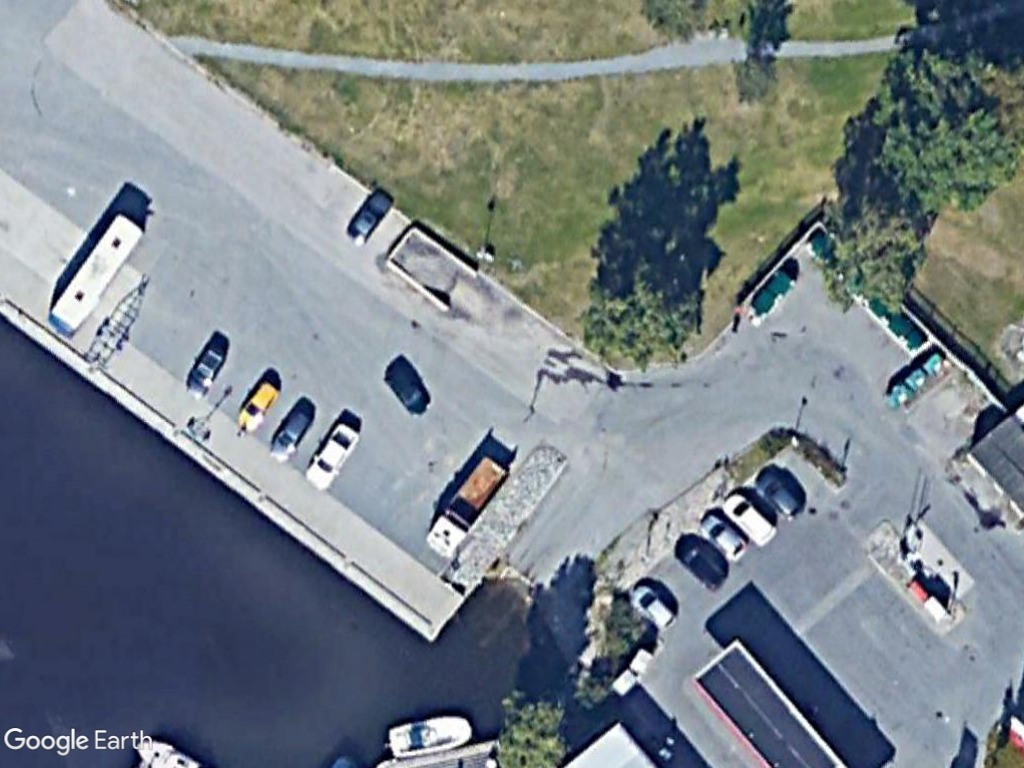boat: (380, 710, 479, 765)
bus: (43, 207, 147, 338)
car: (299, 418, 364, 494), (675, 527, 734, 596), (344, 181, 400, 247), (265, 398, 319, 464), (382, 356, 438, 419), (751, 462, 807, 525), (228, 375, 282, 439), (699, 508, 757, 567), (180, 335, 233, 396), (629, 576, 684, 634)
other: (420, 445, 512, 560)
van: (719, 487, 783, 551)
